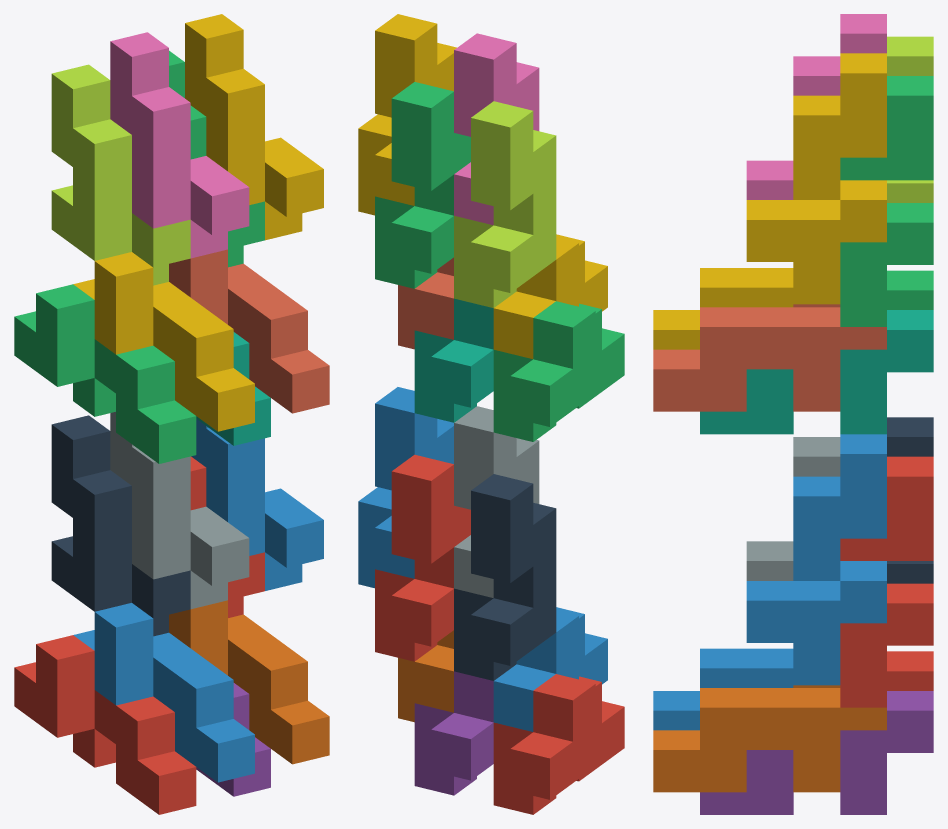
Rendered from tiling.obj.
3 renders of one model, left to right at view 1: azimuth 30°, elevation 25°; view 2: azimuth 150°, elevation 25°; view 3: azimuth 270°, elevation 25°, orthographic. The views are drawn at different scales.
Visible parts, largest first — view 1: copy_2_domain_4, copy_1_domain_3, copy_1_domain_1, copy_2_domain_1, copy_2_domain_3, copy_1_domain_2, copy_1_domain_4, copy_2_domain_8, copy_2_domain_2, copy_1_domain_8, copy_1_domain_6, copy_2_domain_6 (+4 smaller); view 2: copy_2_domain_3, copy_2_domain_1, copy_2_domain_5, copy_2_domain_7, copy_1_domain_1, copy_1_domain_3, copy_2_domain_8, copy_2_domain_6, copy_1_domain_5, copy_1_domain_7, copy_2_domain_4, copy_2_domain_2 (+4 smaller); view 3: copy_2_domain_6, copy_2_domain_8, copy_1_domain_8, copy_1_domain_6, copy_2_domain_5, copy_2_domain_7, copy_1_domain_7, copy_1_domain_5, copy_2_domain_4, copy_1_domain_2, copy_1_domain_4, copy_2_domain_2 (+4 smaller).
Part boxes in pixels (x1,y1,x2,y2): copy_2_domain_4: (110,32,249,258); copy_1_domain_3: (14,284,196,463); copy_1_domain_1: (14,635,196,814); copy_2_domain_1: (51,415,190,636); copy_2_domain_3: (51,64,190,285); copy_1_domain_2: (73,603,254,782); copy_1_domain_4: (73,252,254,431); copy_2_domain_8: (185,14,323,240); copy_2_domain_2: (110,412,249,609); copy_1_domain_8: (169,249,329,413); copy_1_domain_6: (169,600,329,764); copy_2_domain_6: (191,419,323,590); copy_2_domain_3: (454,101,556,308); copy_2_domain_1: (454,474,556,680); copy_2_domain_5: (375,454,470,661); copy_2_domain_7: (375,82,470,288); copy_1_domain_1: (493,674,624,814); copy_1_domain_3: (493,301,624,441); copy_2_domain_8: (358,14,456,215); copy_2_domain_6: (358,387,453,588); copy_1_domain_5: (414,671,493,795); copy_1_domain_7: (414,298,493,422); copy_2_domain_4: (454,33,539,225); copy_2_domain_2: (454,406,539,597); copy_2_domain_6: (746,434,886,685); copy_2_domain_8: (746,53,886,304); copy_1_domain_8: (653,304,886,411); copy_1_domain_6: (653,685,886,792); copy_2_domain_5: (840,456,933,707); copy_2_domain_7: (840,76,933,326); copy_1_domain_7: (700,310,933,434); copy_1_domain_5: (700,691,933,814); copy_2_domain_4: (746,14,886,199); copy_1_domain_2: (653,648,793,730); copy_1_domain_4: (653,268,793,349); copy_2_domain_2: (746,437,840,580).
Bounding box in the file's own units: 6 × 18 × 6.
